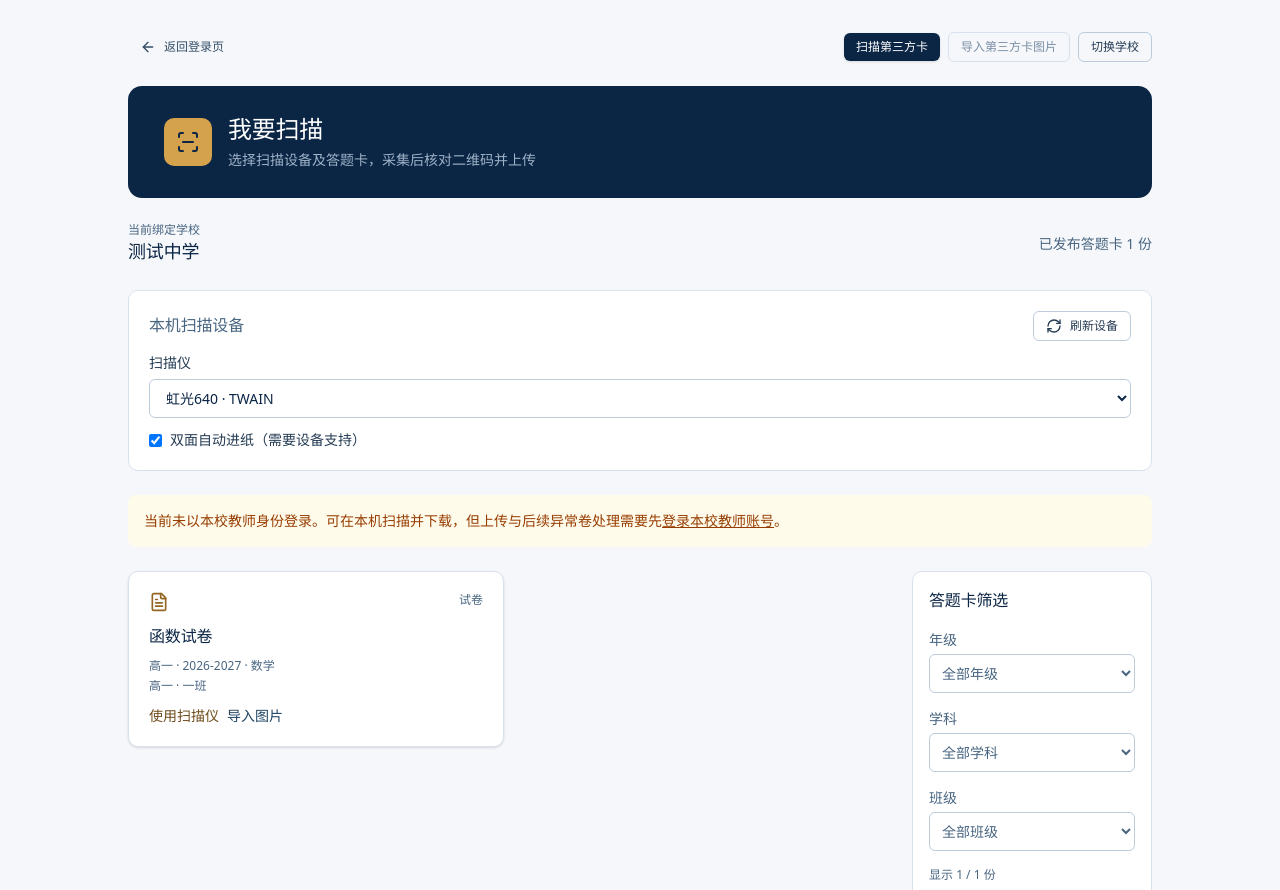
ScannerPage › reports a missing scanner service instead of showing a false success
The width and height of the screenshot is (1280, 890).
Click the button with aria-label "使用扫描仪采集函数试卷".
click(184, 716)  # box x1=149 y1=706 x2=219 y2=726
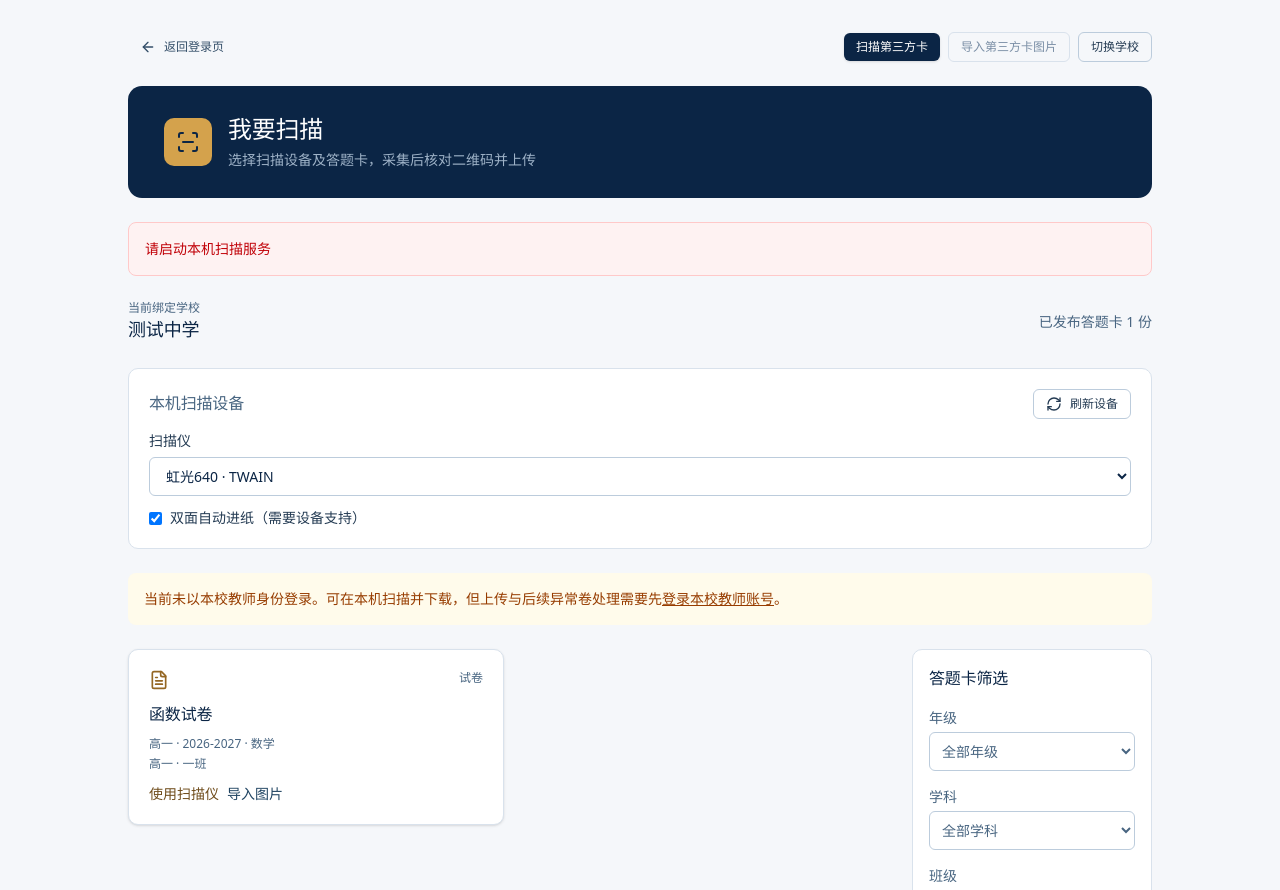
Now the message reads "请启动本机扫描服务", box x1=145 y1=239 x2=271 y2=258
